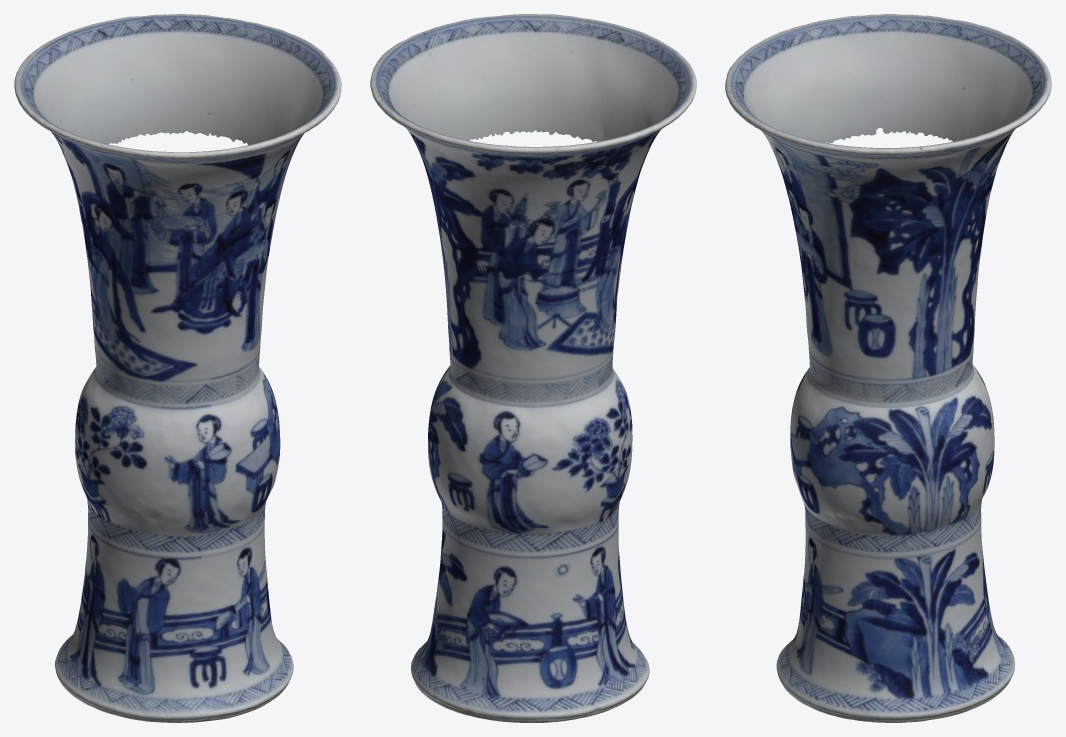
Rendered from si-d8c63a70-4ebc-11ea-b77f-2e728ce88125.glb.
3 renders of one model, left to right at view 1: azimuth 30°, elevation 25°; view 2: azimuth 150°, elevation 25°; view 3: azimuth 270°, elevation 25°, orthographic.
Visible parts, largest first — view 1: GLTF; view 2: GLTF; view 3: GLTF.
Boxes of the visible parts, x1=… form: GLTF: x1=14, y1=14, x2=341, y2=722; GLTF: x1=370, y1=14, x2=696, y2=722; GLTF: x1=725, y1=14, x2=1051, y2=722.
Bounding box in the file's own units: 14.91 × 30 × 14.89.
1 material, 1 textured.
